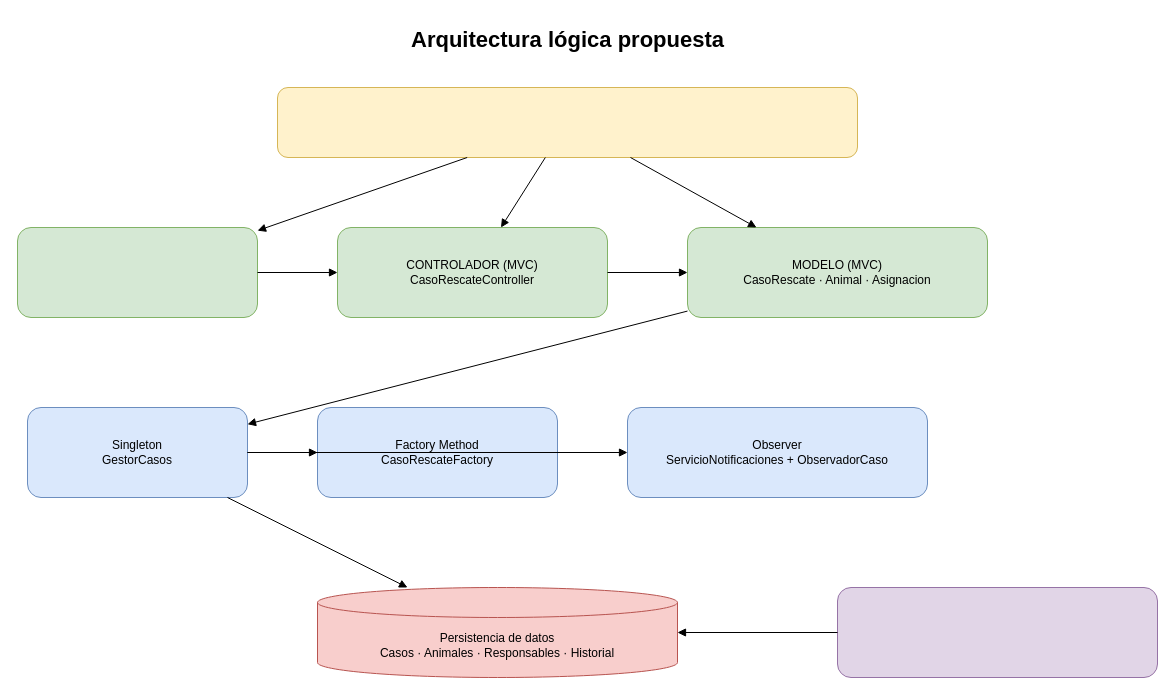
This 1175x695 diagram has some shape labels left out. Each missing label, with the centre of its shape:
Actores Ciudadano · Voluntario/Veterinario · Administrador: point (567, 122)
Gitflow / GitHub master · develop · feature/* Historial de commits y revisiones: point (997, 632)
VISTA (MVC) Formularios y pantallas: point (137, 272)
